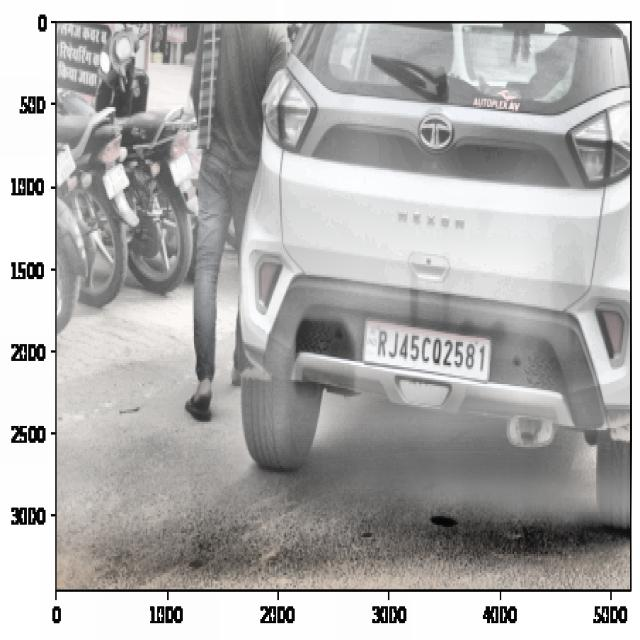license_plate: (371, 325, 496, 382)
